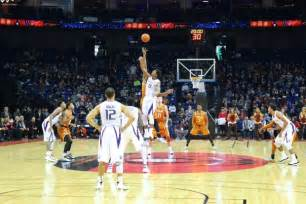basketball: (141, 33, 149, 42)
